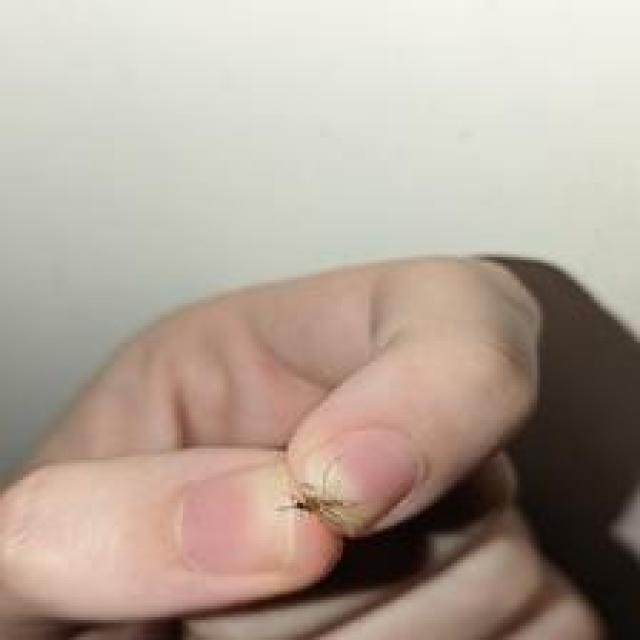Culex: (276, 462, 370, 538)
